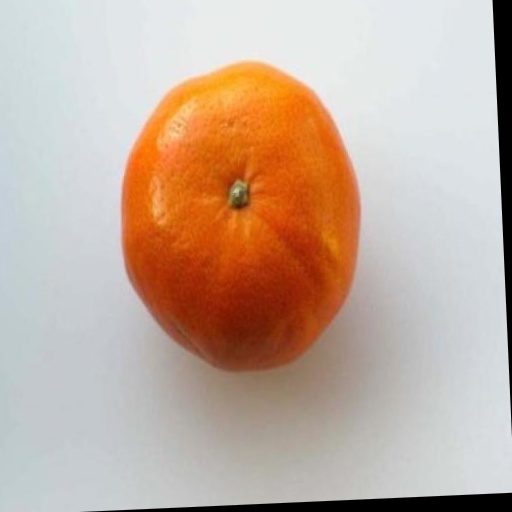fruit: (121, 63, 359, 369)
